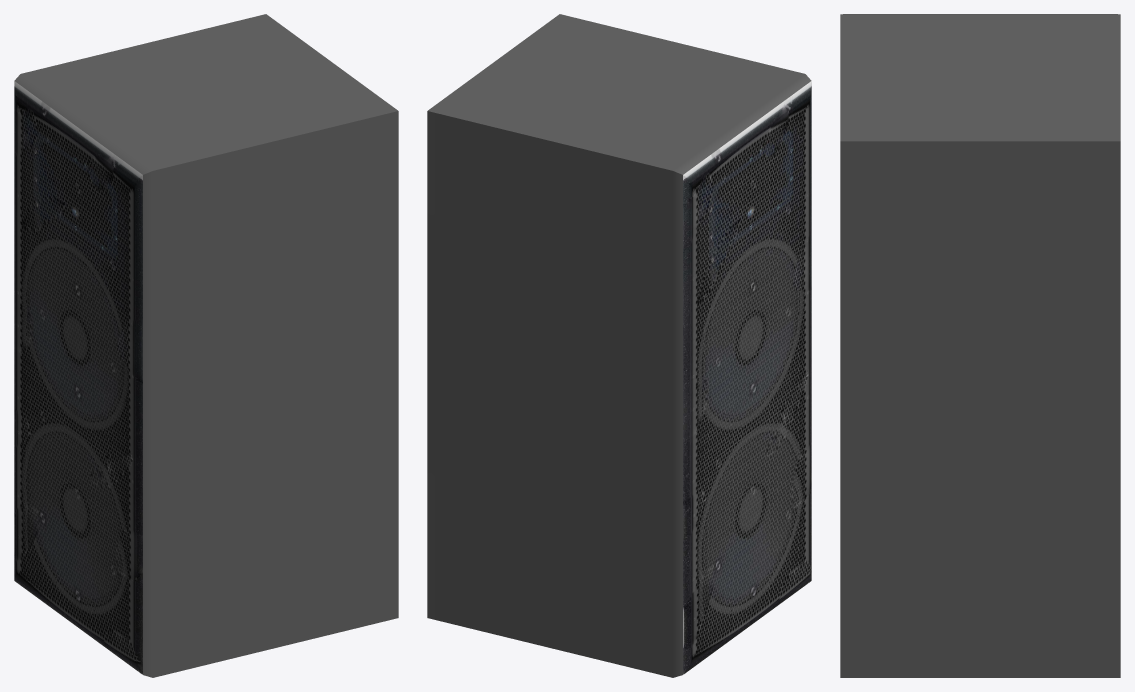
The model's file is Speaker.fbx.
3 views of the same model, side by side, from view 1: azimuth 30°, elevation 25°; view 2: azimuth 150°, elevation 25°; view 3: azimuth 270°, elevation 25° (orthographic). The views are drawn at different scales.
Visible parts, largest first — view 1: Speaker; view 2: Speaker; view 3: Speaker.
Part boxes in pixels (bbox=[...]): Speaker: bbox=[14, 14, 398, 677]; Speaker: bbox=[427, 14, 811, 677]; Speaker: bbox=[840, 14, 1120, 677].
Size of the model in its own units: 97.37 by 183 by 86.86.
1 material, 1 textured.
